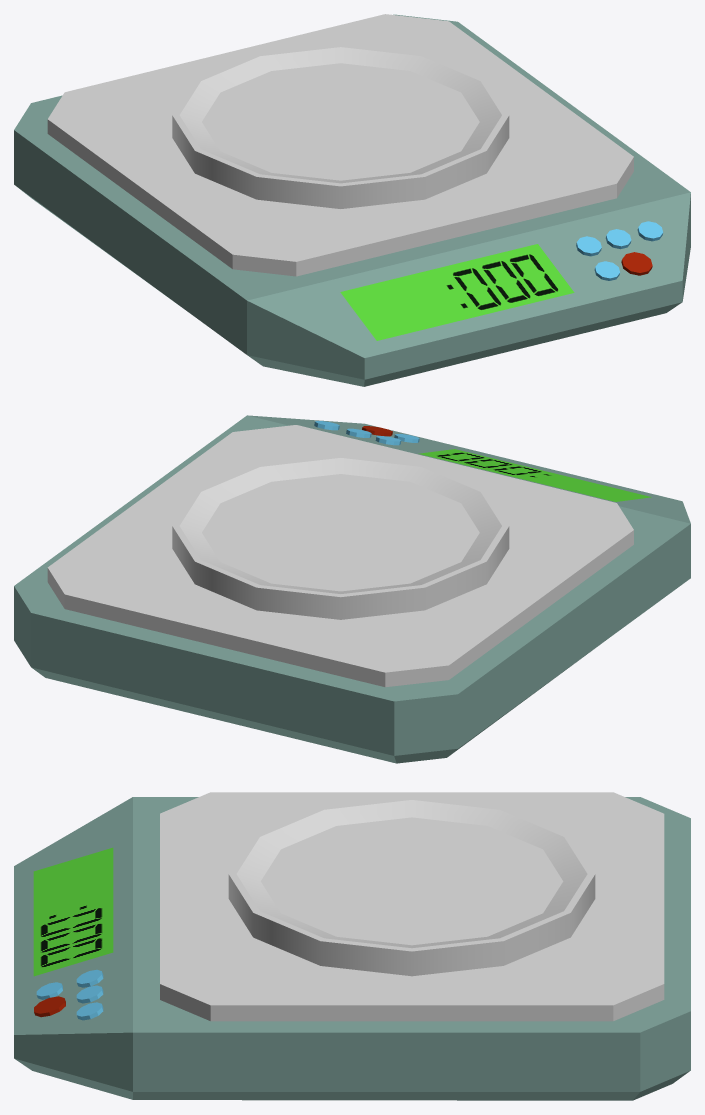
File: Scale.fbx
3 views of the same model, one above another, from view 1: azimuth 30°, elevation 25°; view 2: azimuth 150°, elevation 25°; view 3: azimuth 270°, elevation 25° (orthographic). The views are drawn at different scales.
Visible parts, largest first — view 1: Scale:Weighs_electronic; view 2: Scale:Weighs_electronic; view 3: Scale:Weighs_electronic.
Boxes of the visible parts, bbox=[...] form: Scale:Weighs_electronic: bbox=[14, 14, 690, 386]; Scale:Weighs_electronic: bbox=[14, 415, 690, 763]; Scale:Weighs_electronic: bbox=[14, 792, 690, 1100].
Size of the model in its own units: 0.2 by 0.0461 by 0.2427.
